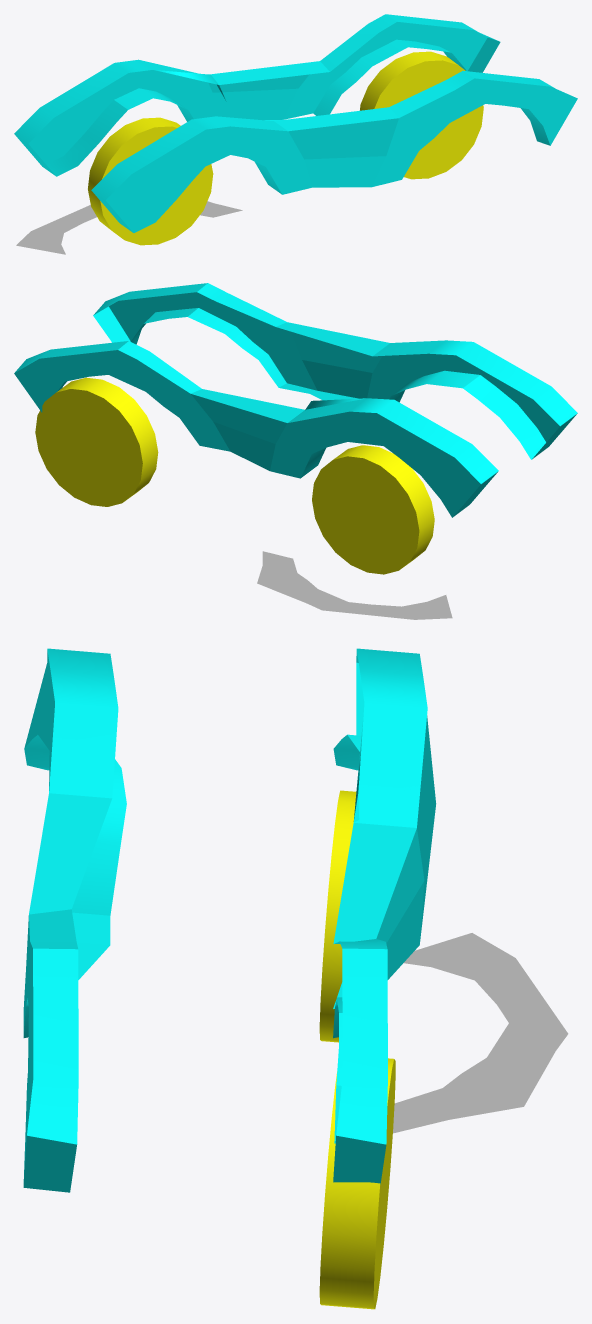
File: caleb_car.glb
The picture shows the model from 3 angles, top to bottom: view 1: azimuth 30°, elevation 25°; view 2: azimuth 150°, elevation 25°; view 3: azimuth 270°, elevation 25°; orthographic projection. The views are drawn at different scales.
Visible parts, largest first — view 1: polySurface11, pCylinder3, pCylinder2, polySurface1; view 2: polySurface11, pCylinder2, pCylinder3, polySurface1; view 3: polySurface11, polySurface1, pCylinder3, pCylinder2.
Boxes of the visible parts, x1,y1,x2,y2 form: polySurface11: [14, 14, 577, 232]; pCylinder3: [360, 51, 483, 179]; pCylinder2: [88, 117, 213, 245]; polySurface1: [16, 201, 242, 254]; polySurface11: [14, 283, 577, 517]; pCylinder2: [312, 445, 434, 574]; pCylinder3: [35, 377, 158, 506]; polySurface1: [257, 551, 452, 619]; polySurface11: [23, 648, 436, 1192]; polySurface1: [393, 933, 568, 1133]; pCylinder3: [319, 1058, 395, 1309]; pCylinder2: [319, 790, 356, 1042].
Bounding box in the file's own units: 0.0852 × 0.0301 × 0.043.
